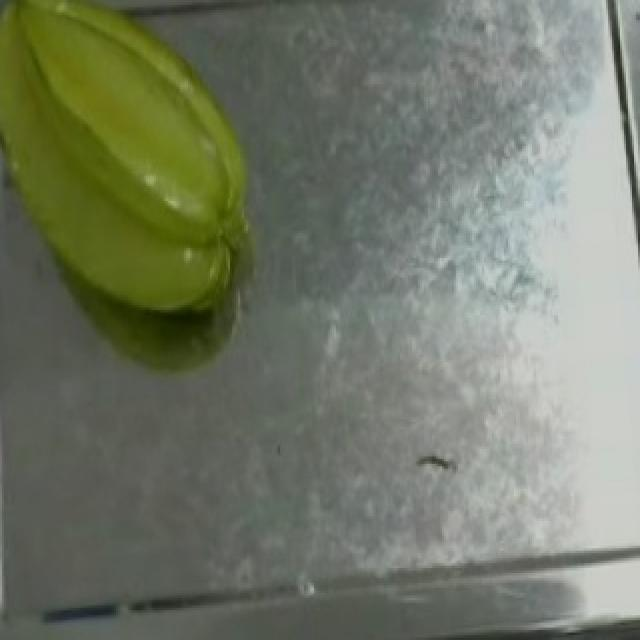fruit: (0, 0, 284, 345)
